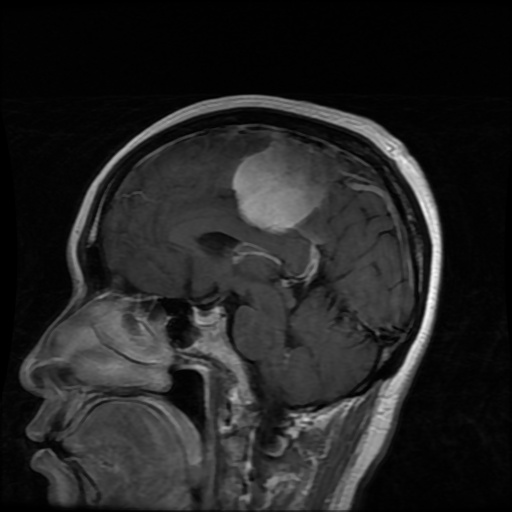meningioma: (232, 136, 337, 234)
